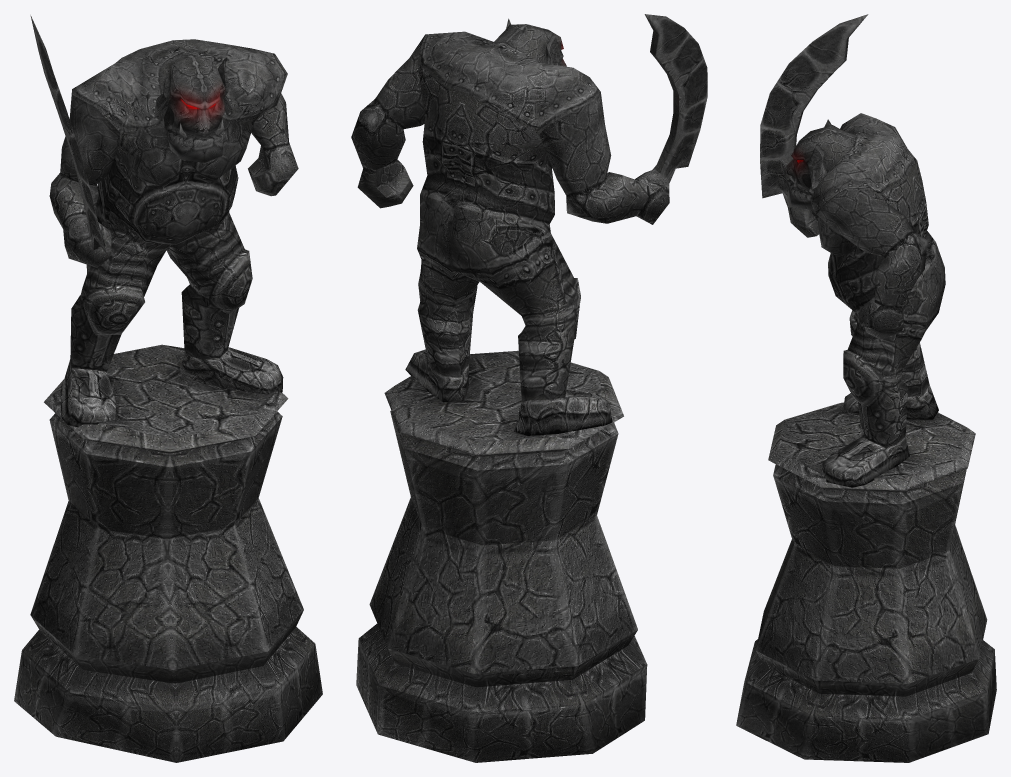
Rendered from statue-Orc-01.fbx.
3 renders of one model, left to right at view 1: azimuth 30°, elevation 25°; view 2: azimuth 150°, elevation 25°; view 3: azimuth 270°, elevation 25°, orthographic. The views are drawn at different scales.
Visible parts, largest first — view 1: statue-Orc-01; view 2: statue-Orc-01; view 3: statue-Orc-01.
Part boxes in pixels (bbox=[...]): statue-Orc-01: bbox=[14, 15, 322, 762]; statue-Orc-01: bbox=[351, 14, 707, 762]; statue-Orc-01: bbox=[736, 14, 996, 762].
Size of the model in its own units: 2.75 by 6.72 by 2.5.
